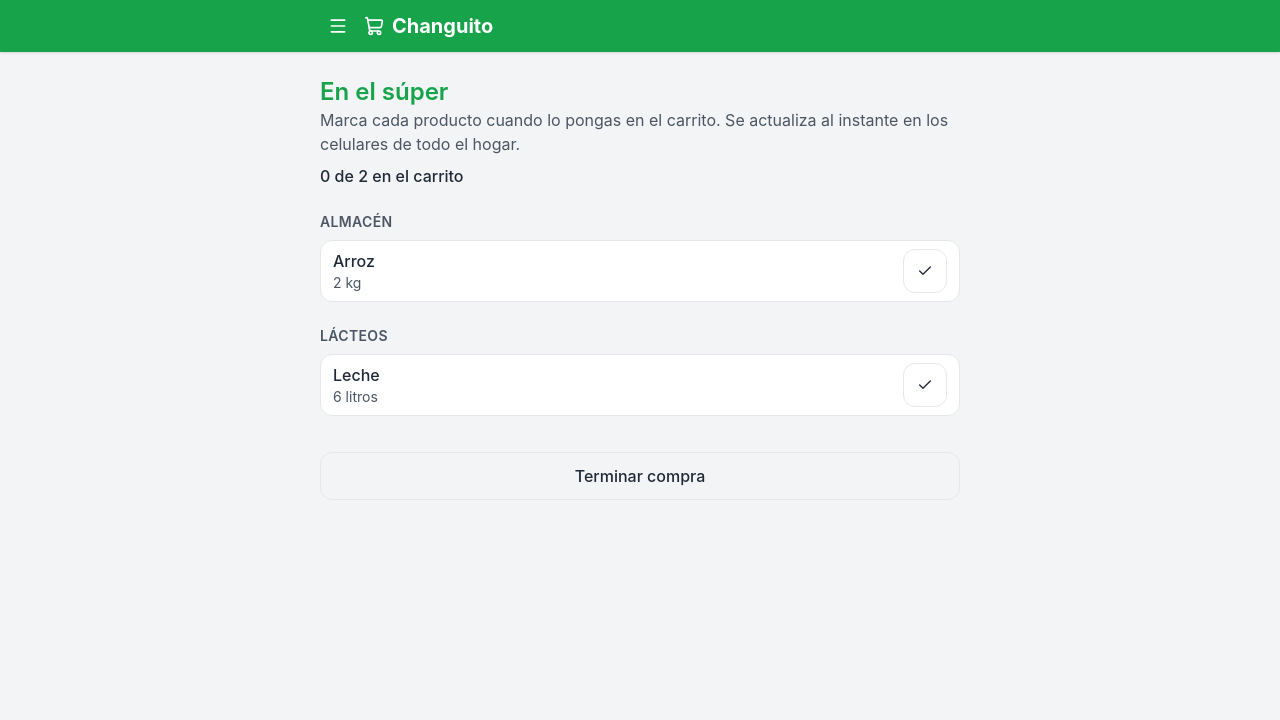
Test case: ShoppingPage › records the price and an optional brand when an item goes into the cart
Click the button named "Tachar Arroz" at (925, 271), box [903,249,947,293]
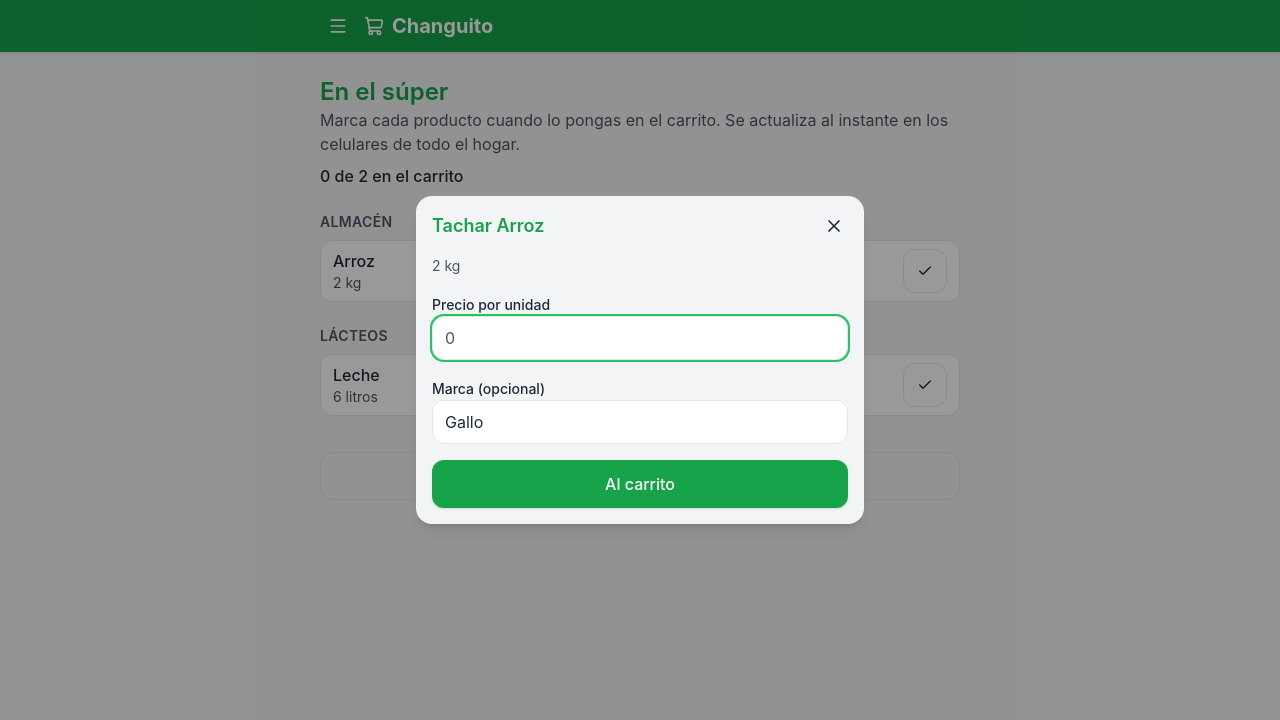
expect the field labelled "Marca (opcional)" holds "Gallo": met, box [432,400,848,444]
Type "1250,50" into the field labelled "Precio por unidad" at (640, 338), box [432,316,848,360]
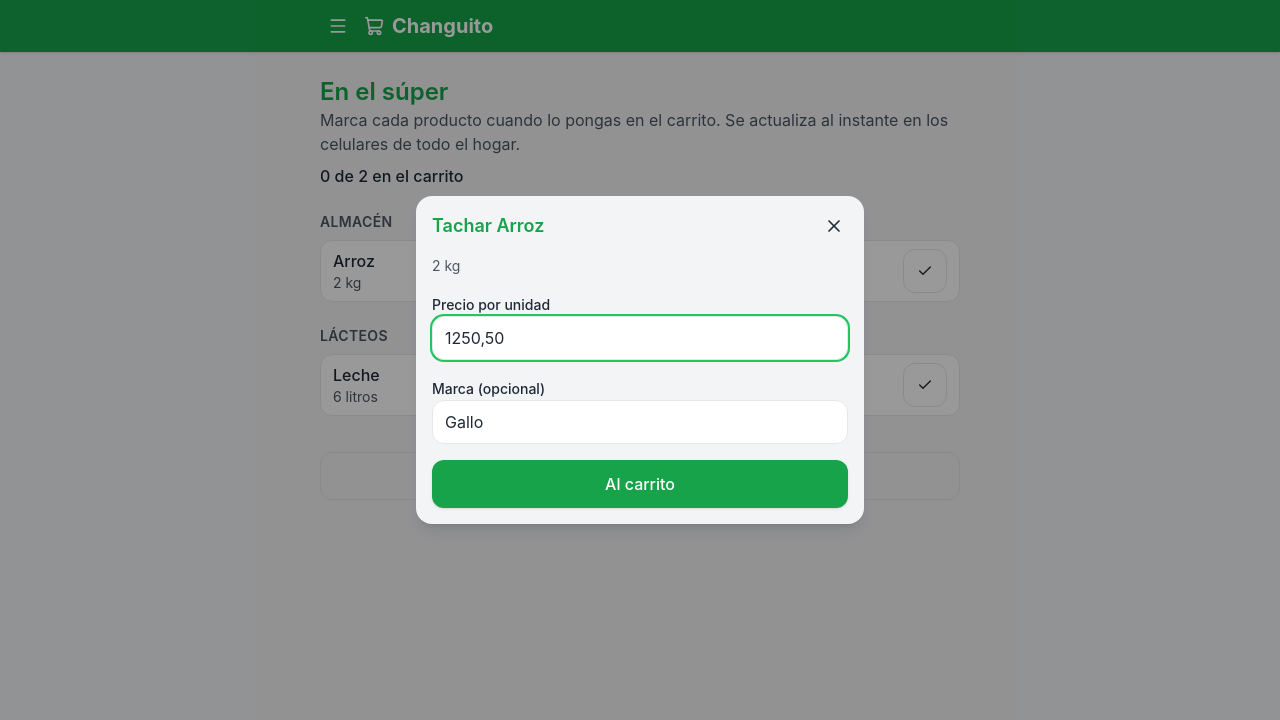
Click the button "Al carrito" at (640, 484), box [432,460,848,508]
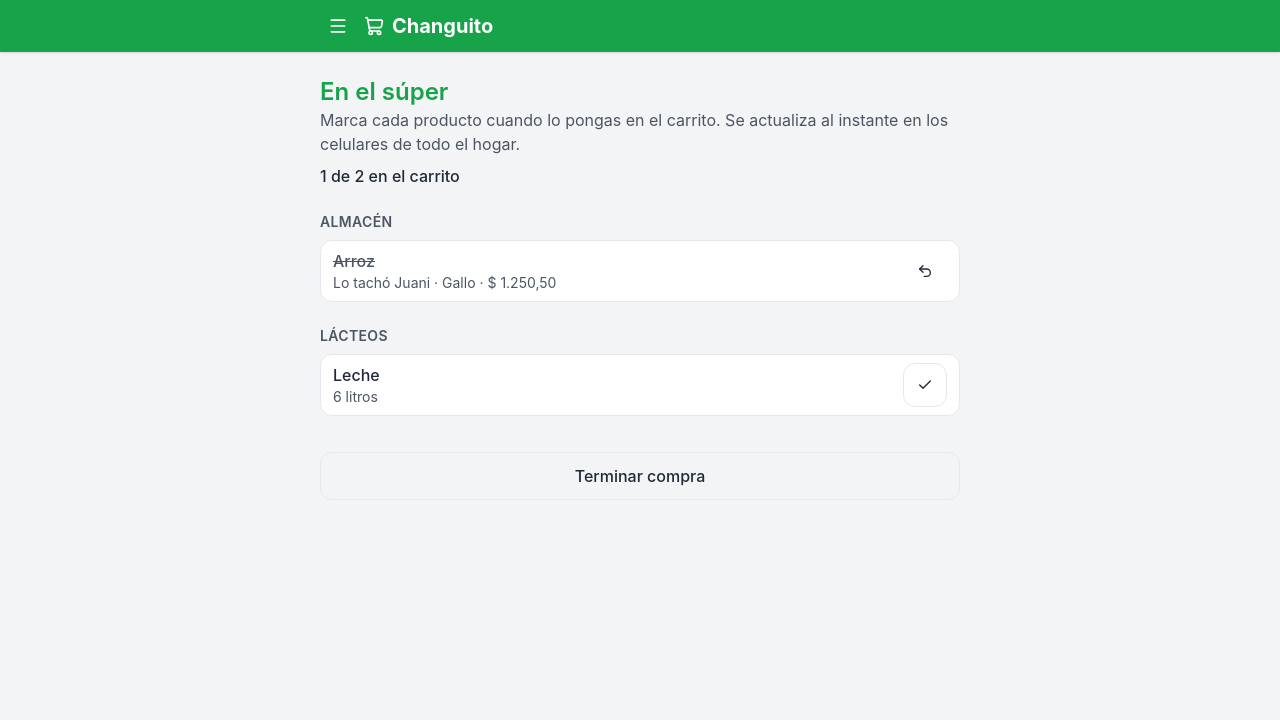
expect the text "Lo tachó Juani · Gallo · $ 1.250,50" is shown: met, box [333,274,556,291]
expect the text "1 de 2 en el carrito" is shown: met, box [320,166,460,186]
